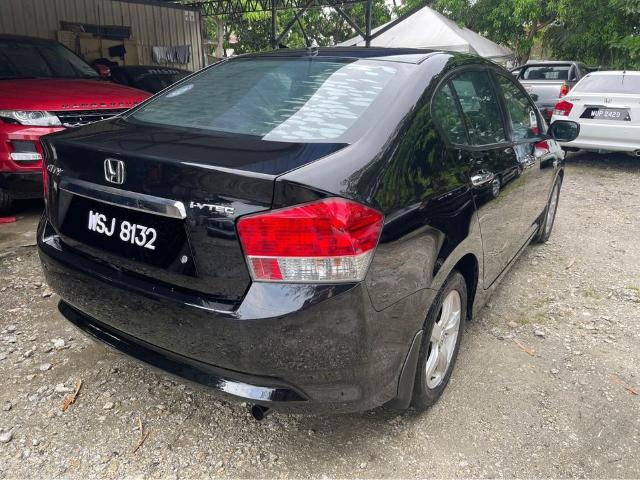License_Plate: (73, 206, 177, 263), (583, 108, 627, 121)
